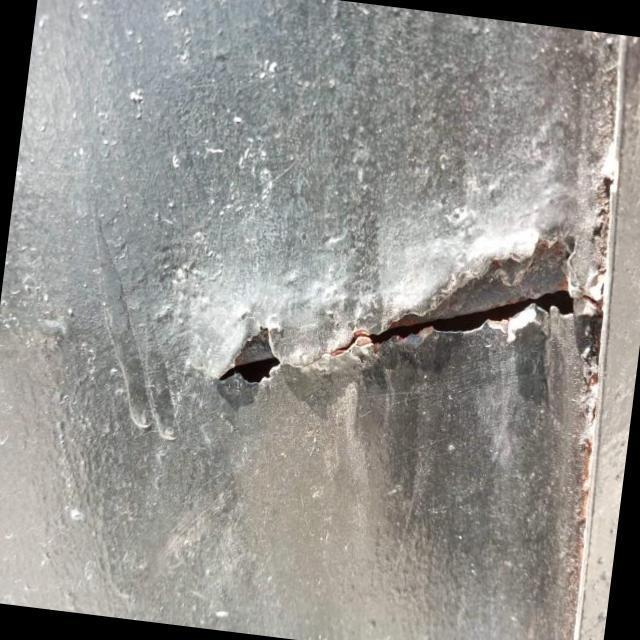defect: (212, 230, 583, 393)
